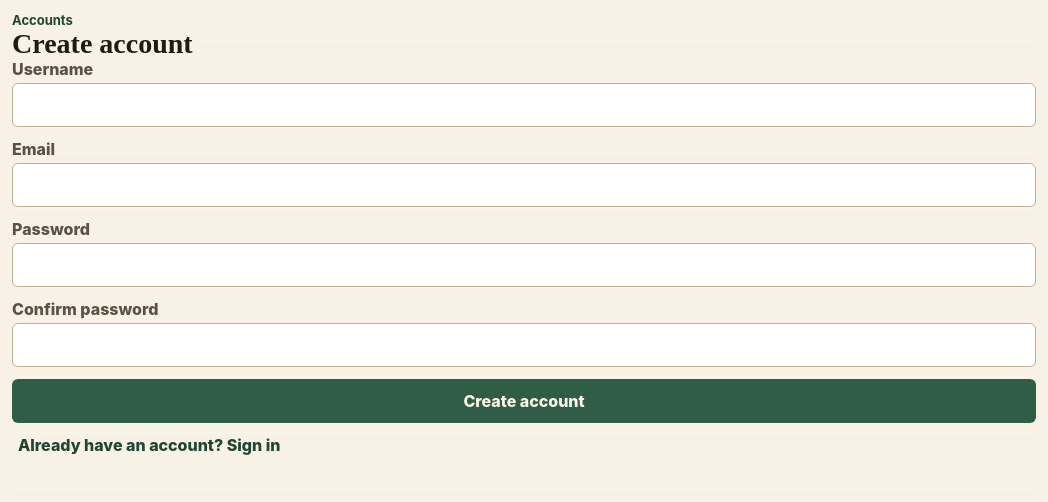
Test: AuthForm › shows invalid username after blur
In the field labelled "Username": (524, 105) [12, 83, 1036, 127], type "má"
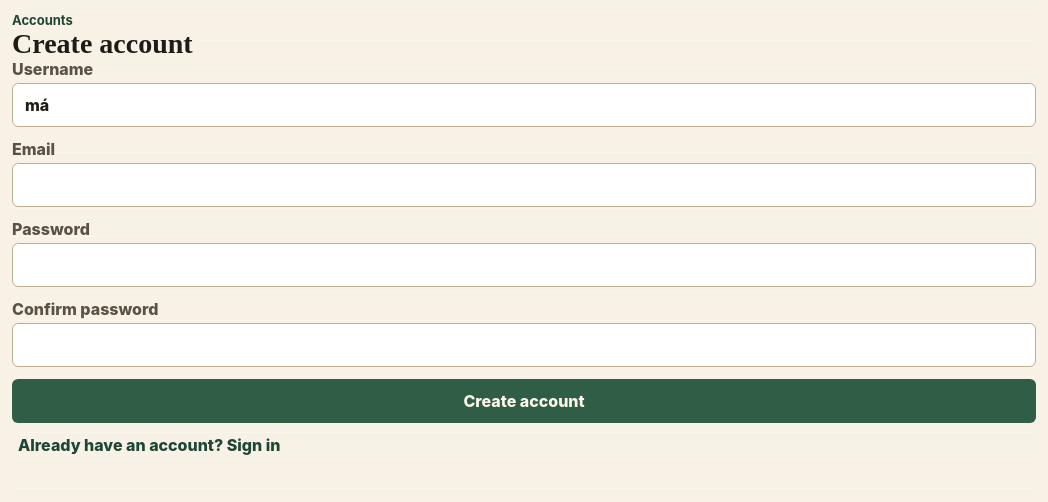
Leave the field labelled "Username", box [12, 83, 1036, 127]
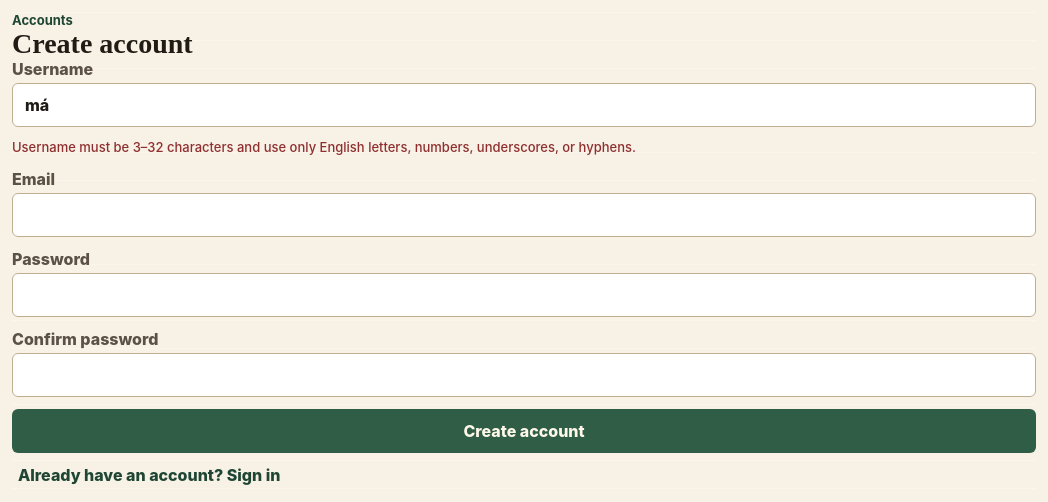
Check: the message shows "Username must be 3–32 characters and use only English letters, numbers, underscores, or hyphens.", box [12, 139, 636, 155]
